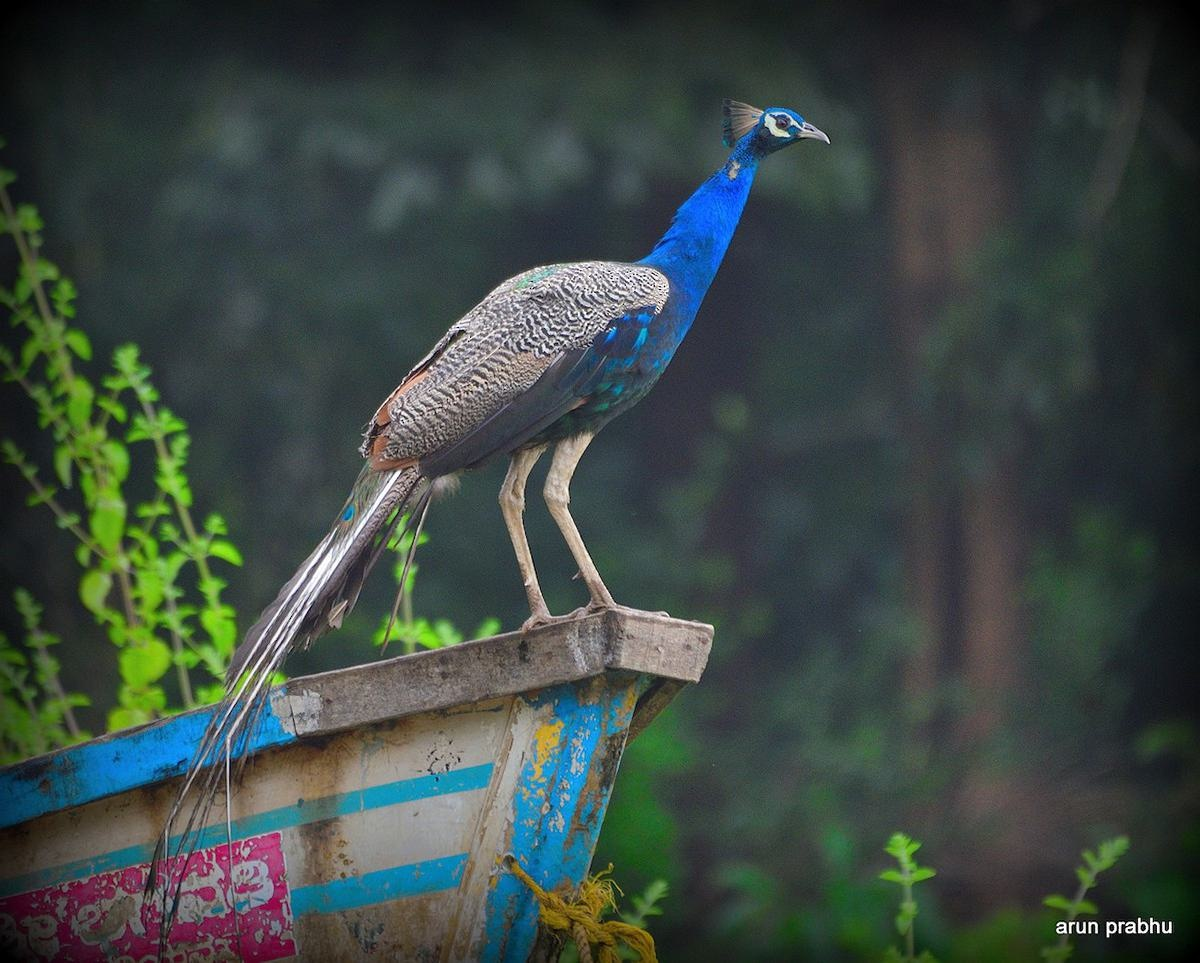peacock: (201, 68, 840, 714)
